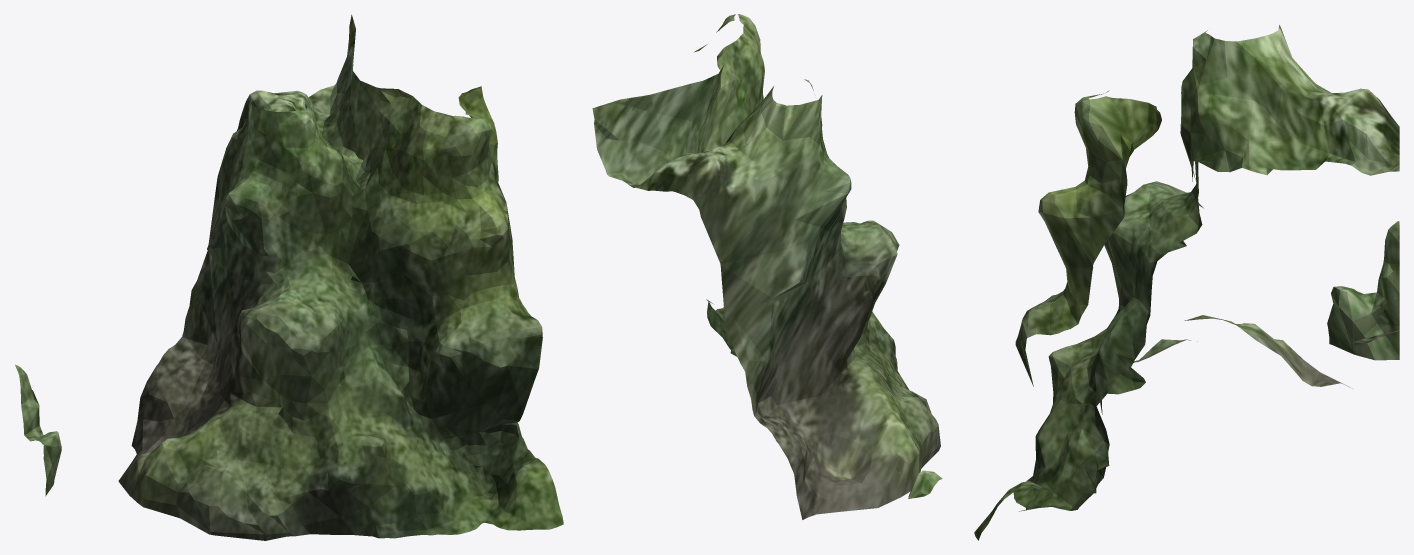
The picture shows the model from 3 angles, left to right: view 1: azimuth 30°, elevation 25°; view 2: azimuth 150°, elevation 25°; view 3: azimuth 270°, elevation 25°; orthographic projection. The views are drawn at different scales.
Size of the model in its own units: 5.9 by 5.9 by 5.39.
4 materials, 4 textured.
